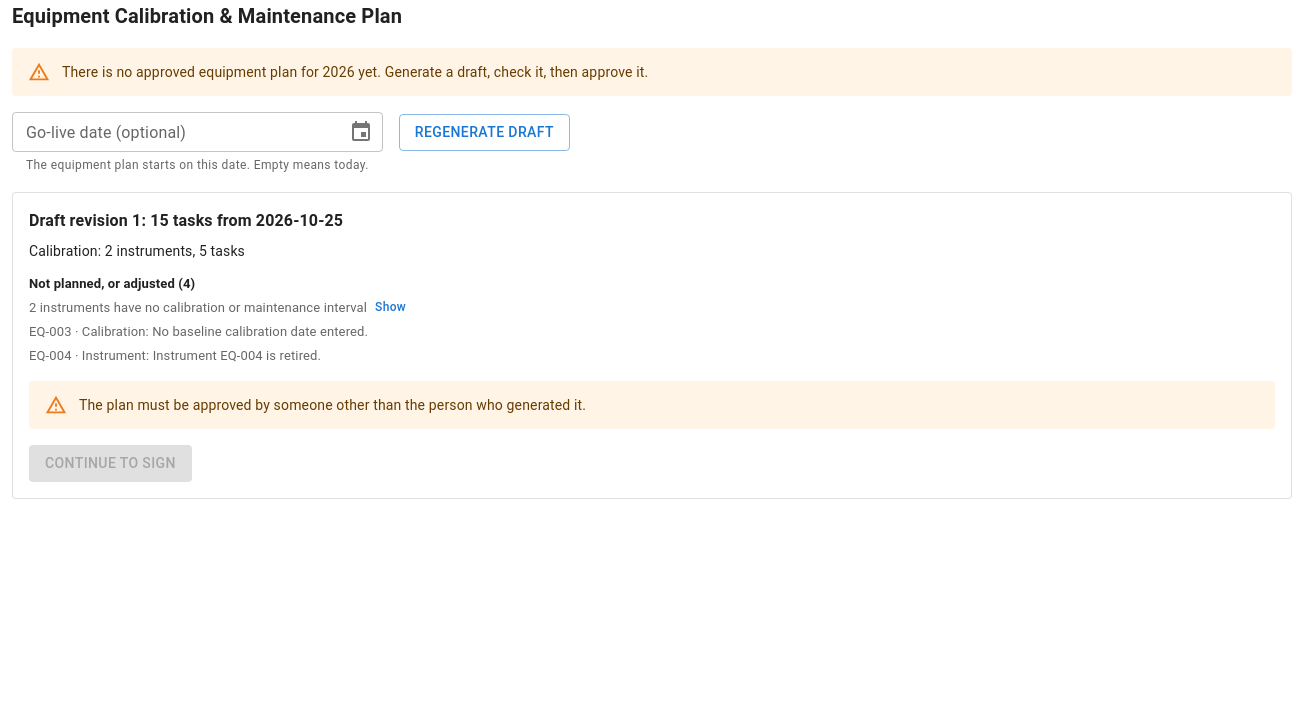
Test: EquipmentPlanPanel › groups no-interval exceptions under a summary line with Show toggle while keeping other exception kinds visible
expect the text "EQ-003 · Calibration: No baseline calibration date entered." is shown: met, box [29, 324, 368, 339]
expect the text "EQ-004 · Instrument: Instrument EQ-004 is retired." is shown: met, box [29, 348, 321, 363]
Click "Show"
Click the button "Show" at (391, 308), box [375, 297, 406, 318]
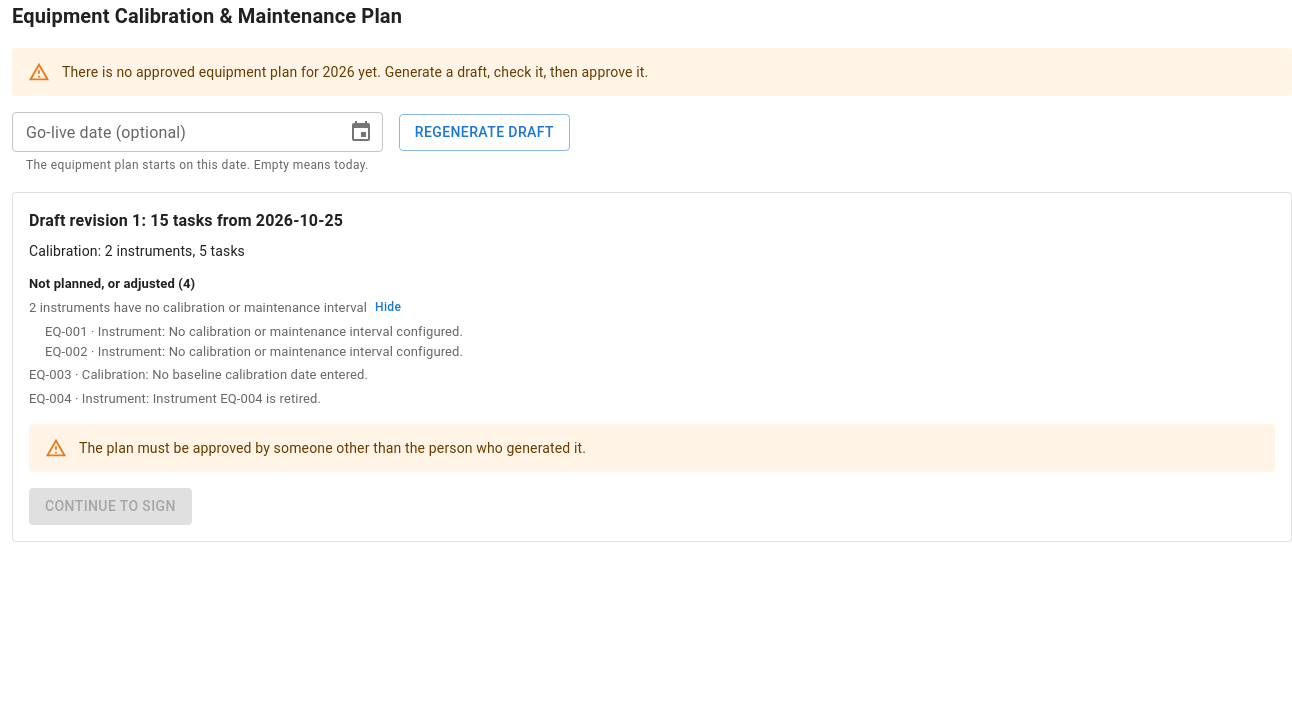
expect the text "EQ-001 · Instrument: No calibration or maintenance interval configured." is shown: met, box [45, 324, 463, 339]
expect the text "EQ-002 · Instrument: No calibration or maintenance interval configured." is shown: met, box [45, 344, 463, 359]
expect the button "Hide" is shown: met, box [375, 297, 401, 318]
